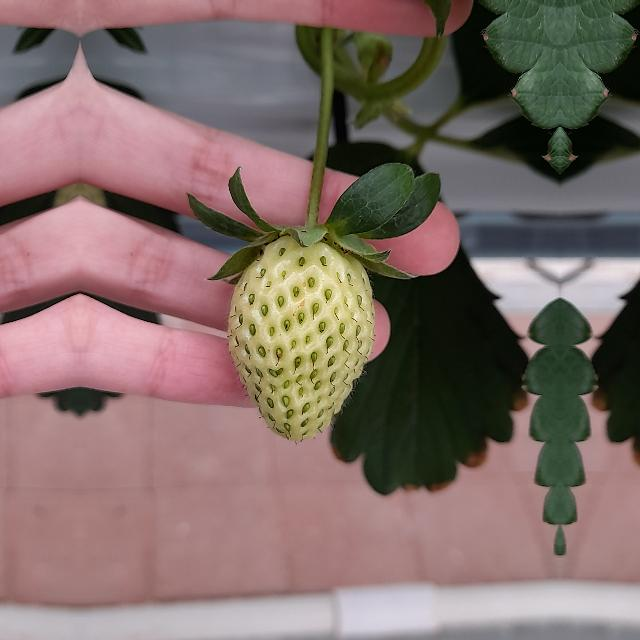Health_25: (228, 235, 374, 440)
